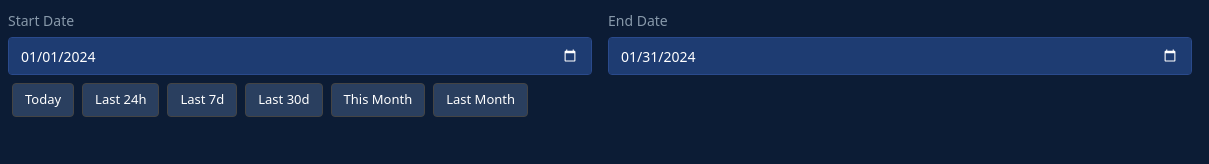
it: SimpleDatePicker › Validation › clears error when dates become valid
The width and height of the screenshot is (1209, 164).
Set invalid range
Type "2024-02-15" into the date field named "Start date".
click(300, 56); type("2024-02-15")  # box 8,37 -> 592,75
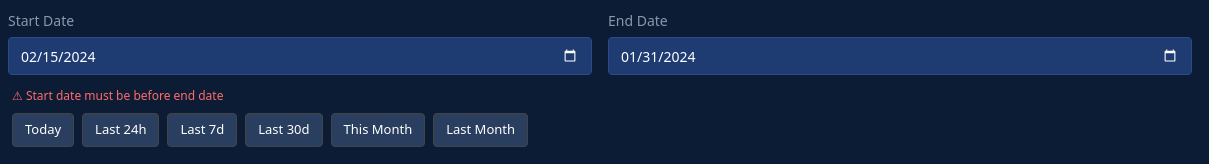
Expected: the text "⚠ Start date must be before end date" is shown, 12,87 -> 223,104
Fix the range
Type "2024-03-15" into the date field named "End date".
click(900, 56); type("2024-03-15")  # box 608,37 -> 1192,75
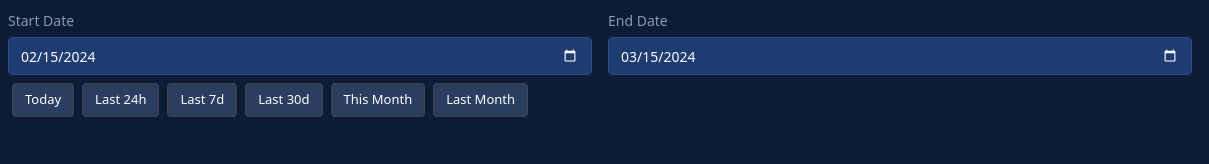
Expected: the text "Start date must be before end date" is gone
